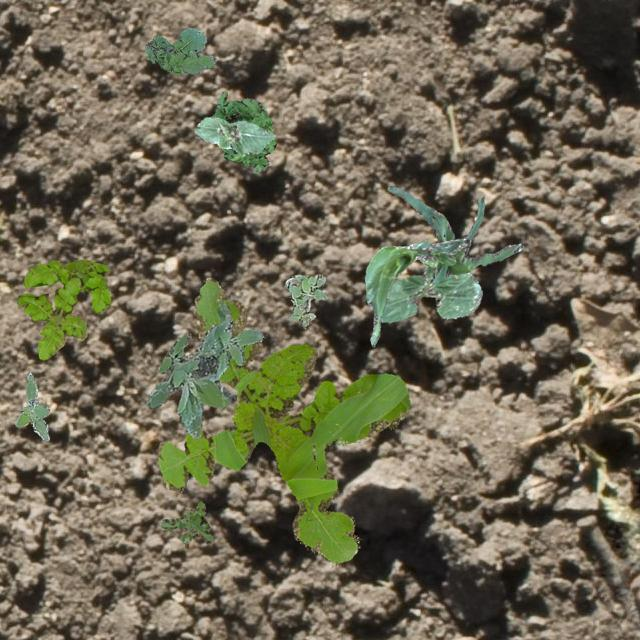crop: (387, 185, 522, 282), (364, 238, 468, 346), (379, 264, 482, 322), (193, 116, 274, 156)
weed: (158, 276, 408, 562), (146, 300, 262, 438), (15, 258, 110, 358), (212, 90, 276, 172), (143, 28, 214, 74), (14, 372, 48, 441), (284, 272, 326, 326), (160, 500, 212, 542)
